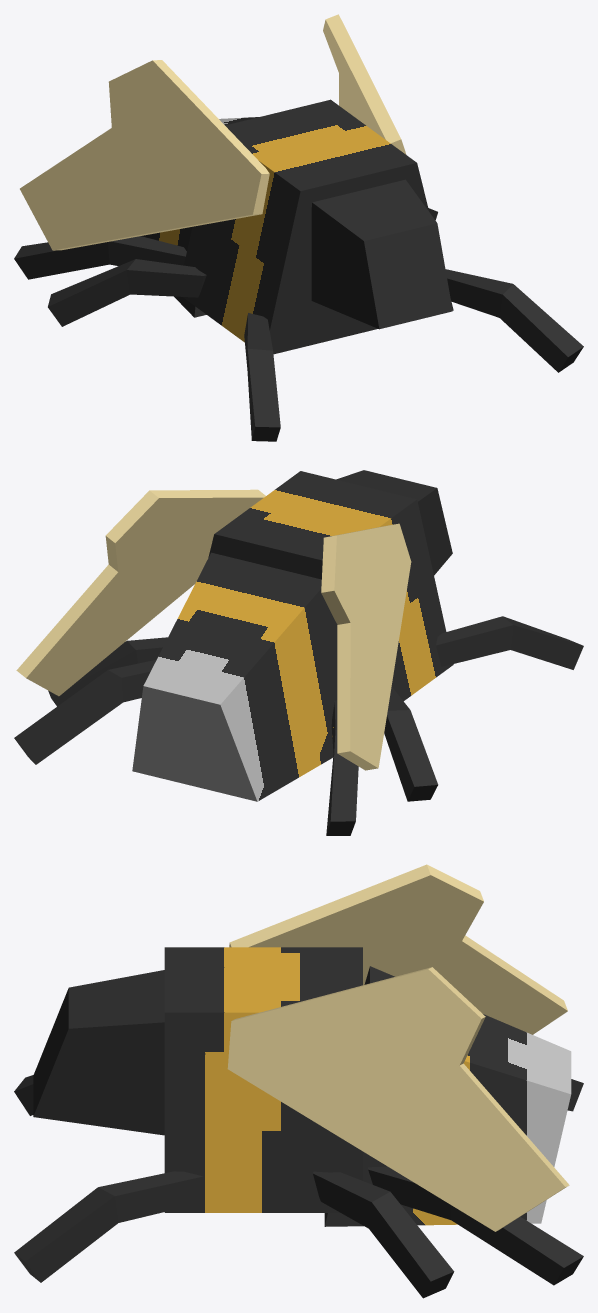
File: bumblebee.glb
The picture shows the model from 3 angles, top to bottom: view 1: azimuth 30°, elevation 25°; view 2: azimuth 150°, elevation 25°; view 3: azimuth 270°, elevation 25°; orthographic projection. The views are drawn at different scales.
Parts seen in each view (by area): view 1: Cube; view 2: Cube; view 3: Cube.
Part boxes in pixels (x1,y1,x2,y2): Cube: (14, 14, 583, 441); Cube: (14, 470, 583, 835); Cube: (14, 864, 583, 1298).
Size of the model in its own units: 3.92 by 2.33 by 4.31.
Materials: 1 (1 with a texture image).
